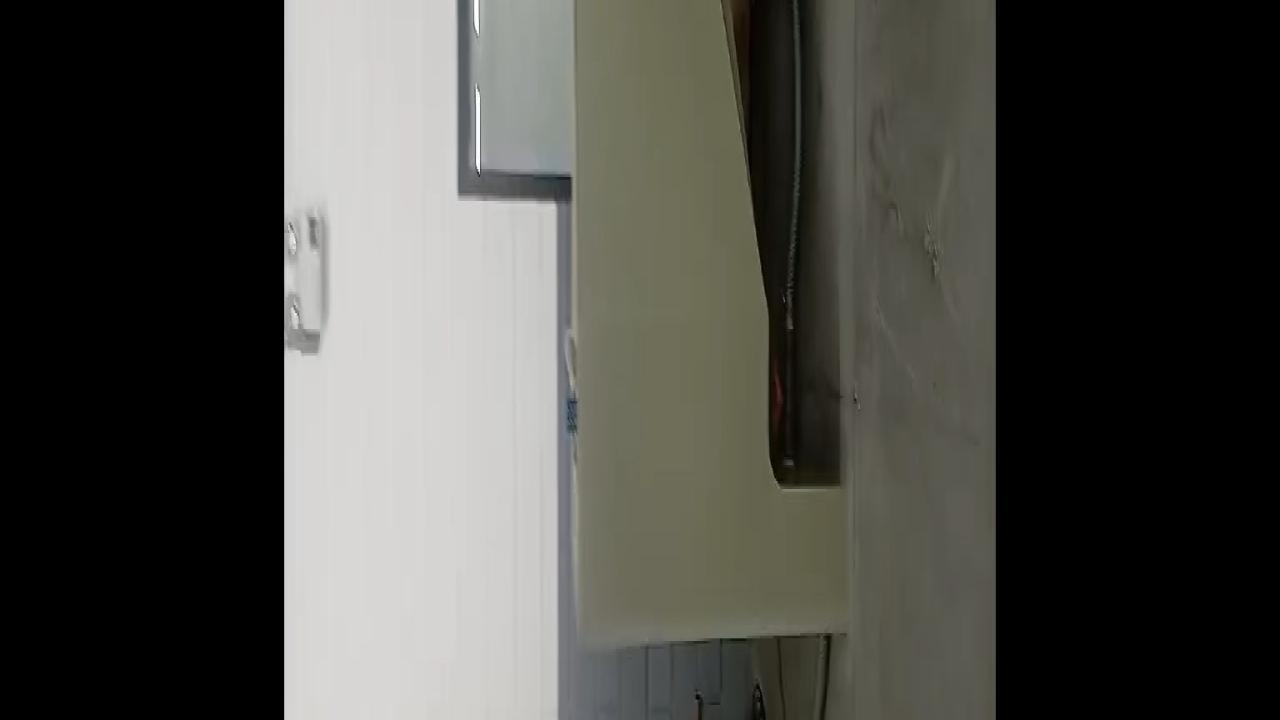Cube: (566, 392, 578, 436)
